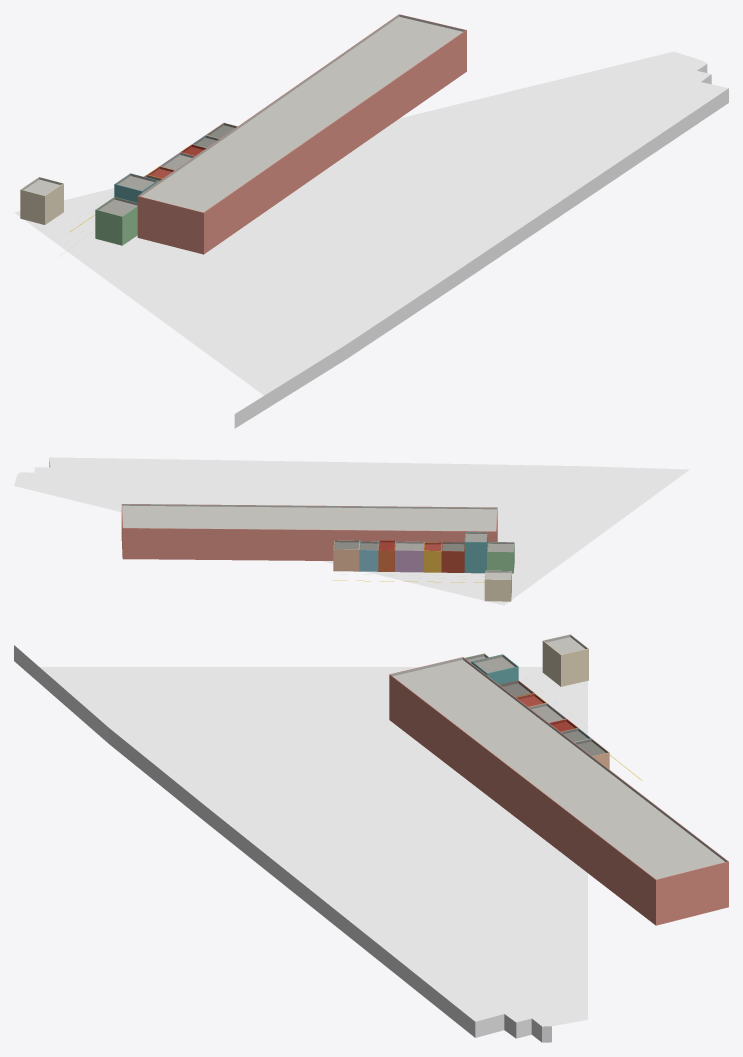
The picture shows the model from 3 angles, top to bottom: view 1: azimuth 30°, elevation 25°; view 2: azimuth 150°, elevation 25°; view 3: azimuth 270°, elevation 25°; orthographic projection. The views are drawn at different scales.
Parts seen in each view (by area): view 1: plaza, roofs, walls, asphalt, coast; view 2: plaza, walls, roofs, asphalt; view 3: plaza, roofs, walls, asphalt, coast.
Boxes of the visible parts, x1,y1,x2,y2 form: plaza: [14, 51, 728, 395]; roofs: [20, 14, 466, 216]; walls: [20, 30, 466, 254]; asphalt: [43, 84, 622, 325]; coast: [234, 64, 728, 428]; plaza: [14, 457, 689, 605]; walls: [121, 510, 514, 601]; roofs: [121, 504, 514, 579]; asphalt: [113, 479, 618, 589]; plaza: [40, 667, 587, 1026]; roofs: [389, 634, 728, 879]; walls: [389, 641, 728, 925]; asphalt: [228, 667, 587, 969]; coast: [14, 645, 551, 1042].
Size of what is drawn, in the model's own units: 254 by 19.15 by 201.
